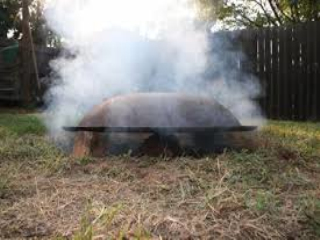smoke: (41, 4, 268, 130)
